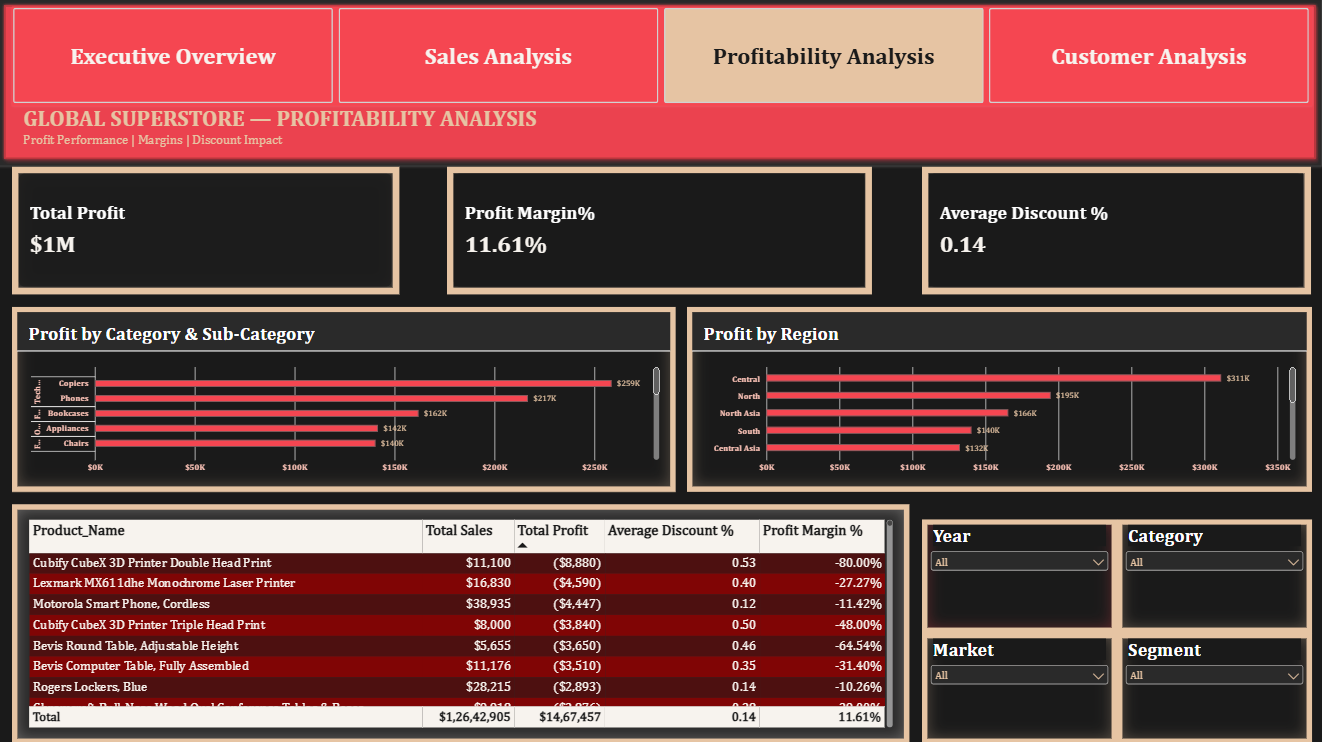

The dashboard page shown, as its layout file describes it:
{"tool":"powerbi","page":{"name":"Profitability Analysis","canvas":[1920,1080],"ordinal":2},"visuals":[{"type":"shape","box":[0,0,1920.1,244.3],"z":0},{"type":"textbox","box":[38,155.6,1864,74.2],"z":1000},{"type":"cardVisual","fields":{"Data":["FactSales.Total Profit"]},"box":[21.7,244.3,561,184.6],"z":2000},{"type":"cardVisual","fields":{"Data":["FactSales.Profit Margin %"]},"box":[651.5,244.3,615.3,184.6],"z":3000},{"type":"cardVisual","fields":{"Data":["FactSales.Average Discount %"]},"box":[1339.1,244.3,562.8,184.6],"z":4000},{"type":"clusteredBarChart","title":"Profit by Category & Sub-Category","fields":{"Category":["DimProduct.Category","DimProduct.Sub_Category"],"Y":["FactSales.Total Profit"]},"box":[21.7,447,960.9,267.8],"z":5000},{"type":"clusteredBarChart","title":"Profit by Region","fields":{"Category":["FactSales.Region"],"Y":["FactSales.Total Profit"]},"box":[998.9,447,904.8,267.8],"z":6000},{"type":"tableEx","fields":{"Values":["DimProduct.Product_Name","FactSales.Total Sales","FactSales.Total Profit","FactSales.Average Discount %","FactSales.Profit Margin %"]},"box":[21.7,732.9,1299.3,347.5],"z":6001},{"type":"slicer","fields":{"Values":["DimDate.Year"]},"box":[1339.1,754.6,282.3,164.7],"z":6002},{"type":"slicer","fields":{"Values":["DimProduct.Category"]},"box":[1621.5,754.6,282.3,164.7],"z":6003},{"type":"slicer","fields":{"Values":["FactSales.Market"]},"box":[1339.1,918.9,282.3,161.1],"z":6004},{"type":"slicer","fields":{"Values":["FactSales.Segment"]},"box":[1621.5,918.9,282.3,161.1],"z":6005},{"type":"pageNavigator","box":[21.7,12.7,1882,143],"z":6006}]}

Visuals, with their boxes in screenshot pixels (x1, y1, x2, y2), scaled from the page's 1920x1080 canvas onto the 1322x742 screenshot:
shape: detection(0, 0, 1321, 168)
textbox: detection(26, 107, 1310, 158)
cardVisual - FactSales.Total Profit: detection(15, 168, 401, 295)
cardVisual - FactSales.Profit Margin %: detection(449, 168, 872, 295)
cardVisual - FactSales.Average Discount %: detection(922, 168, 1310, 295)
"Profit by Category & Sub-Category" clusteredBarChart: detection(15, 307, 677, 491)
"Profit by Region" clusteredBarChart: detection(688, 307, 1311, 491)
tableEx - DimProduct.Product_Name x FactSales.Total Sales: detection(15, 504, 910, 741)
slicer - DimDate.Year: detection(922, 518, 1116, 632)
slicer - DimProduct.Category: detection(1116, 518, 1311, 632)
slicer - FactSales.Market: detection(922, 631, 1116, 741)
slicer - FactSales.Segment: detection(1116, 631, 1311, 741)
pageNavigator: detection(15, 9, 1311, 107)
